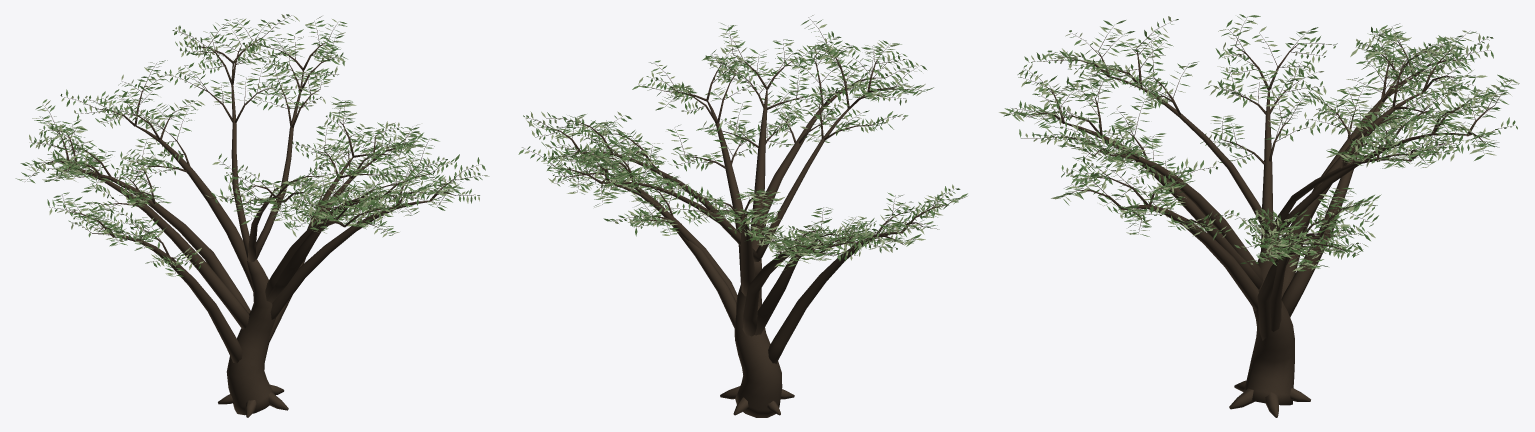
Rendered from olive.glb.
The picture shows the model from 3 angles, left to right: view 1: azimuth 30°, elevation 25°; view 2: azimuth 150°, elevation 25°; view 3: azimuth 270°, elevation 25°; orthographic projection. The views are drawn at different scales.
Parts seen in each view (by area): view 1: olive connected crown 1, olive connected crown 2, olive connected crown 3, olive attached fine twigs, olive irregular trunk, olive spreading bough 2, olive spreading bough 5, olive spreading bough 10, olive spreading bough 6, olive spreading bough 7, olive spreading bough 3, olive spreading bough 12 (+4 smaller); view 2: olive connected crown 3, olive connected crown 1, olive connected crown 2, olive attached fine twigs, olive irregular trunk, olive spreading bough 5, olive spreading bough 10, olive spreading bough 11, olive spreading bough 1, olive spreading bough 2, olive spreading bough 3, olive spreading bough 8 (+5 smaller); view 3: olive connected crown 3, olive connected crown 1, olive connected crown 2, olive attached fine twigs, olive irregular trunk, olive spreading bough 10, olive spreading bough 6, olive spreading bough 11, olive spreading bough 3, olive spreading bough 8, olive spreading bough 7, olive spreading bough 5 (+5 smaller).
Boxes of the visible parts, x1,y1,x2,y2 form: olive connected crown 1: (20,18,482,276); olive connected crown 2: (15,14,485,276); olive connected crown 3: (19,14,489,274); olive attached fine twigs: (25,15,482,276); olive irregular trunk: (226,259,275,415); olive spreading bough 2: (78,169,249,329); olive spreading bough 5: (115,236,242,363); olive spreading bough 10: (81,171,250,313); olive spreading bough 6: (270,200,428,319); olive spreading bough 7: (135,125,253,291); olive spreading bough 3: (266,220,343,303); olive spreading bough 12: (231,62,249,260); olive connected crown 3: (522,15,964,270); olive connected crown 1: (523,21,967,266); olive connected crown 2: (518,19,967,267); olive attached fine twigs: (526,17,962,266); olive irregular trunk: (734,259,782,417); olive spreading bough 5: (768,232,900,363); olive spreading bough 10: (742,245,822,336); olive spreading bough 11: (750,89,767,251); olive spreading bough 1: (609,175,736,327); olive spreading bough 2: (754,248,815,335); olive spreading bough 3: (762,89,844,239); olive spreading bough 8: (756,95,865,260); olive connected crown 3: (999,16,1519,271); olive connected crown 1: (1003,14,1518,271); olive connected crown 2: (1004,15,1517,267); olive attached fine twigs: (1010,17,1513,268); olive irregular trunk: (1244,237,1294,405); olive spreading bough 10: (1281,77,1397,317); olive spreading bough 6: (1126,205,1258,311); olive spreading bough 11: (1111,154,1263,281); olive spreading bough 3: (1064,122,1262,289); olive spreading bough 8: (1109,76,1272,235); olive spreading bough 7: (1275,92,1422,264); olive spreading bough 5: (1261,89,1273,249).
Bounding box in the file's own units: 8.98 × 7 × 9.36.
5 materials, 5 textured.
